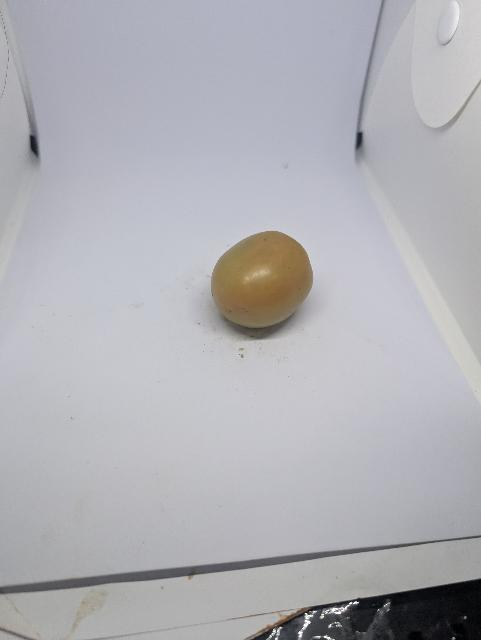turning: (204, 223, 321, 345)
